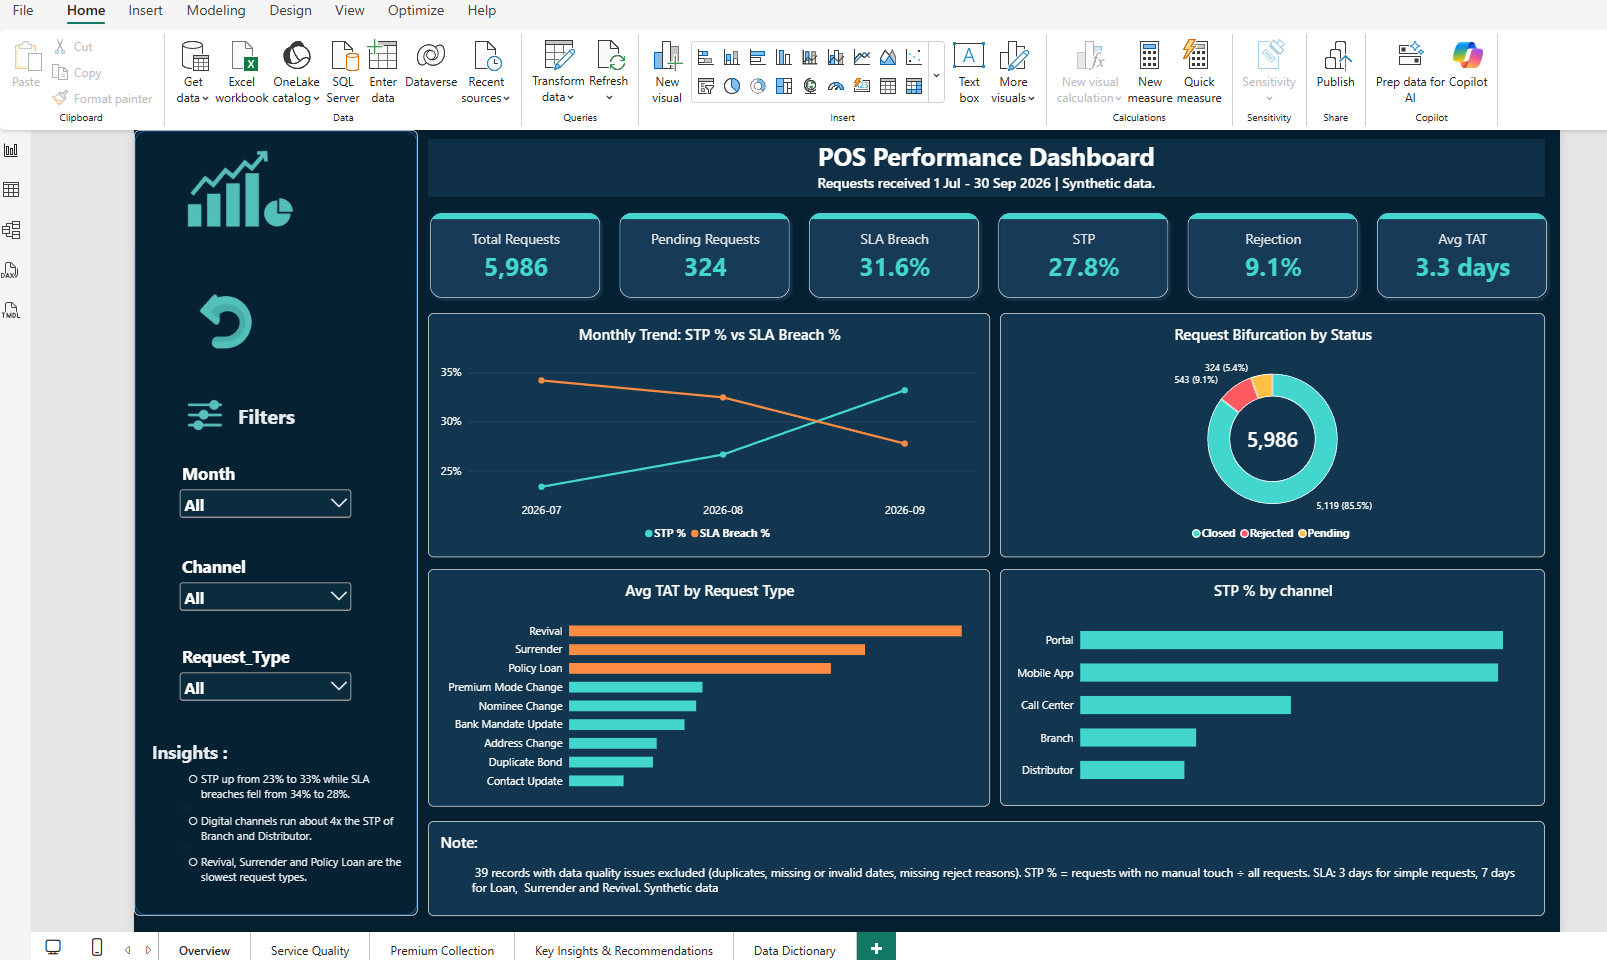

What the dashboard file says about the page in this screenshot:
{"tool":"powerbi","page":{"name":"Overview","canvas":[1920,1080],"ordinal":0},"visuals":[{"type":"cardVisual","title":"Cards_page1","fields":{"Data":["measure_table.Total Requests Count","measure_table.Total Pending Request","Avg(insurance_pos_3m v_request_clean.sla_breach)","measure_table.STP %","measure_table.Rejection %","measure_table.Avg TAT Days"]},"box":[387.8,101,1531.1,136],"z":0},{"type":"slicer","fields":{"Values":["insurance_pos_3m v_request_clean.channel"]},"box":[56.6,572.3,241,83.5],"z":0,"group":"g1"},{"type":"textbox","title":"POS Performance Dashboard","box":[396.2,12.7,1503.8,78.5],"z":1000},{"type":"slicer","fields":{"Values":["v_request_clean.request_type"]},"box":[56.6,693.5,241,83.5],"z":1000,"group":"g1"},{"type":"lineChart","title":"Monthly Trend: STP % vs SLA Breach %","fields":{"Category":["v_request_clean.received_month"],"Y":["measure_table.STP %","measure_table.SLA Breach %"]},"box":[395.9,246.4,756.8,328.6],"z":2000},{"type":"slicer","fields":{"Values":["v_request_clean.received_month"]},"box":[56.6,447.1,241,83.5],"z":2000,"group":"g1"},{"type":"donutChart","title":"Request Bifurcation by Status","fields":{"Category":["v_request_clean.status"],"Y":["measure_table.Total Requests Count"]},"box":[1166.2,246.4,733.9,328.6],"z":3000},{"type":"clusteredBarChart","title":"Avg TAT by Request Type","fields":{"Category":["v_request_clean.request_type"],"Y":["measure_table.Avg TAT Days"]},"box":[396.2,590.7,757,320.3],"z":4000},{"type":"clusteredBarChart","fields":{"Category":["v_request_clean.channel"],"Y":["measure_table.STP %"]},"box":[1166.2,591.2,733.9,319.2],"z":5000},{"type":"textbox","title":"Note:","box":[395.9,930.5,1504.2,127.9],"z":6000},{"type":"textbox","title":"Insights :","box":[16.2,821.4,362.2,237],"z":7000},{"type":"image","title":"Home_image_page1","box":[56.6,12.1,168.9,133.8],"z":8000},{"type":"image","title":"back_arrow_image","box":[70,206,107.5,103],"z":9000},{"type":"image","title":"filter_image","box":[52.9,346,86.6,71.6],"z":10000},{"type":"textbox","title":"Filter_text","box":[139.5,366.9,147.8,68.7],"z":11000},{"type":"shape","title":"slicer_panel_page3","box":[0,0,382.4,1058.5],"z":12000},{"type":"group","id":"g1","title":"slicers_page1","box":[56.6,447.1,241,329.9],"z":13000}]}

Visuals, with their boxes on the page's 1920x1080 design canvas (x1, y1, x2, y2). These are canvas units, not pixel positions in the 1607x960 screenshot, which may show the page scaled, cropped or inside an application window:
"Cards_page1" cardVisual: 388:101:1919:237
slicer - insurance_pos_3m v_request_clean.channel: 57:572:298:656
"POS Performance Dashboard" textbox: 396:13:1900:91
slicer - v_request_clean.request_type: 57:694:298:777
"Monthly Trend: STP % vs SLA Breach %" lineChart: 396:246:1153:575
slicer - v_request_clean.received_month: 57:447:298:531
"Request Bifurcation by Status" donutChart: 1166:246:1900:575
"Avg TAT by Request Type" clusteredBarChart: 396:591:1153:911
clusteredBarChart - v_request_clean.channel x measure_table.STP %: 1166:591:1900:910
"Note:" textbox: 396:930:1900:1058
"Insights :" textbox: 16:821:378:1058
"Home_image_page1" image: 57:12:226:146
"back_arrow_image" image: 70:206:178:309
"filter_image" image: 53:346:140:418
"Filter_text" textbox: 140:367:287:436
"slicer_panel_page3" shape: 0:0:382:1058
"slicers_page1" group: 57:447:298:777
